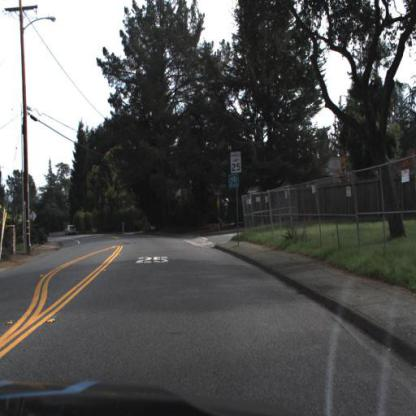car: (63, 222, 80, 237), (65, 224, 78, 240)
